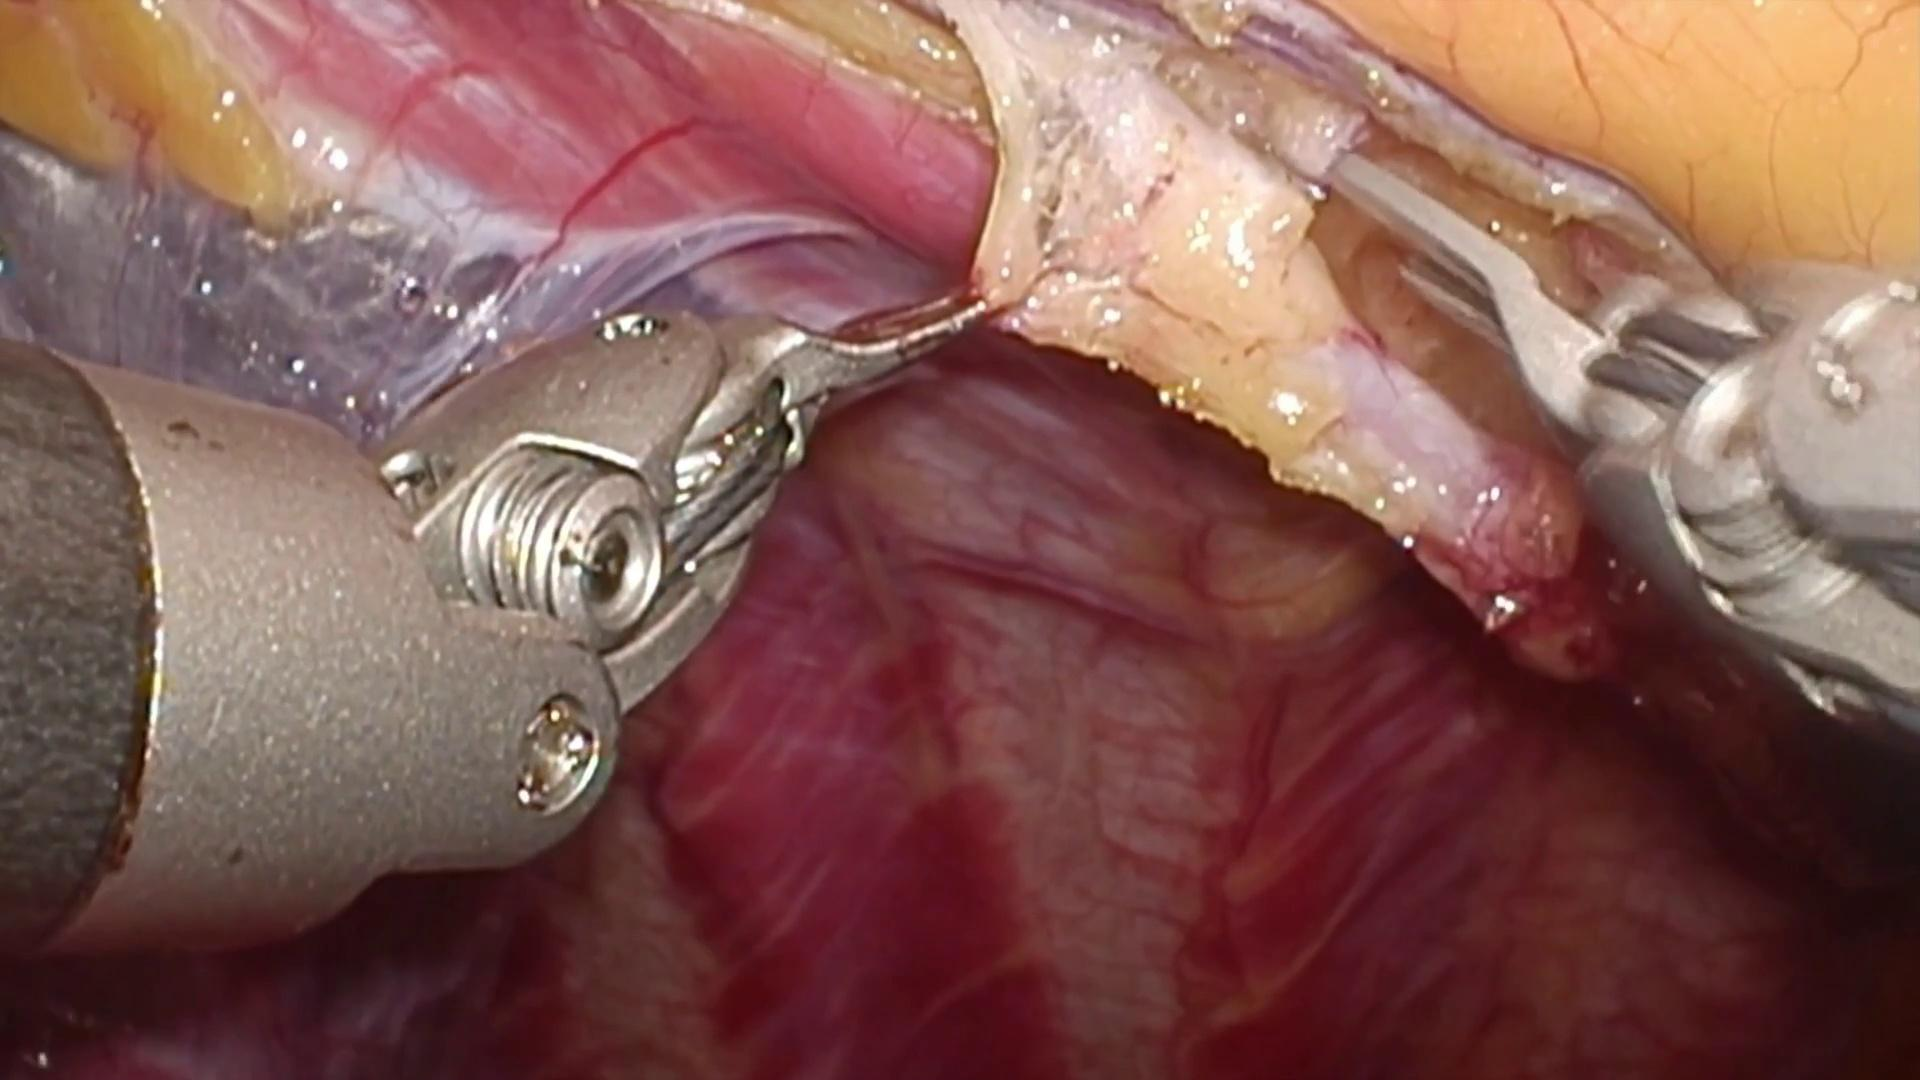Debakey: (716, 269, 1000, 433)
clipper: (1246, 103, 1862, 670)
